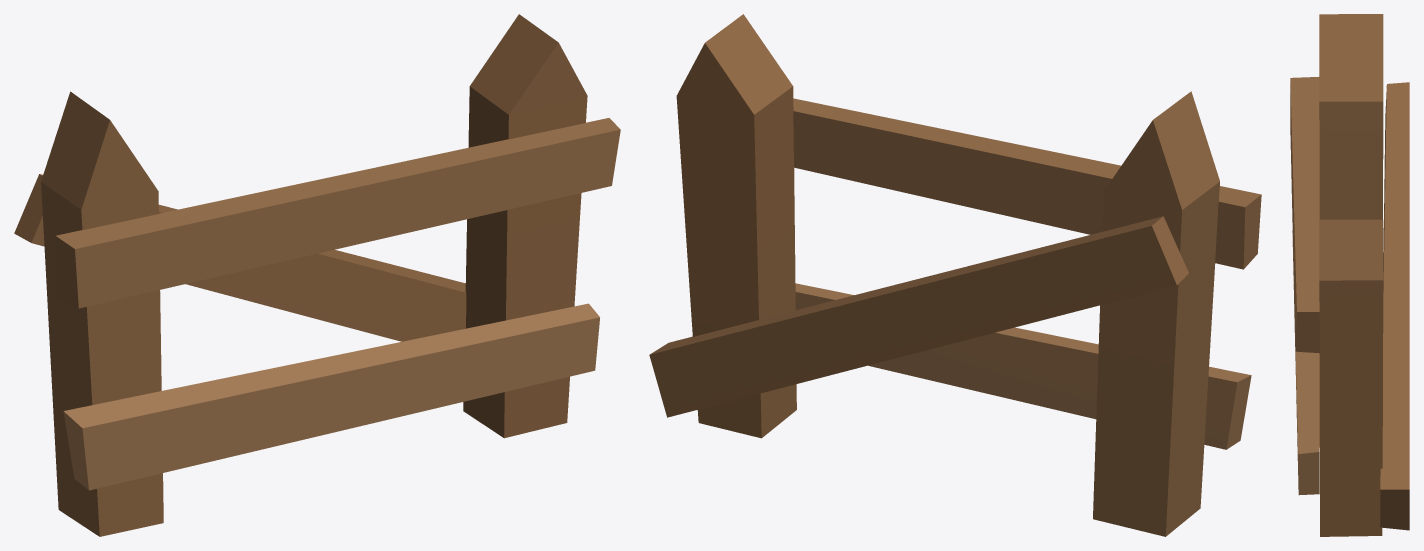
File: Fence_WoodB_C.fbx
The picture shows the model from 3 angles, left to right: view 1: azimuth 30°, elevation 25°; view 2: azimuth 150°, elevation 25°; view 3: azimuth 270°, elevation 25°; orthographic projection. The views are drawn at different scales.
Visible parts, largest first — view 1: Fence_WoodB_C; view 2: Fence_WoodB_C; view 3: Fence_WoodB_C.
Boxes of the visible parts, x1=… form: Fence_WoodB_C: x1=14, y1=14, x2=620, y2=536; Fence_WoodB_C: x1=649, y1=14, x2=1261, y2=536; Fence_WoodB_C: x1=1290, y1=14, x2=1409, y2=536.
Bounding box in the file's own units: 159 × 115 × 36.27.
